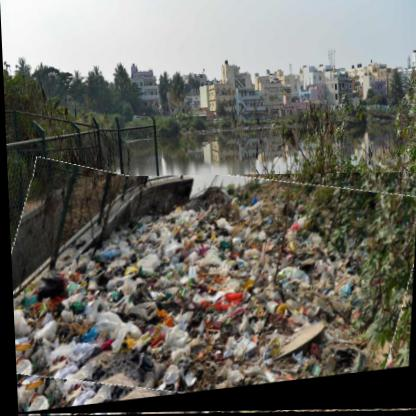Garbage: (7, 174, 416, 416)
